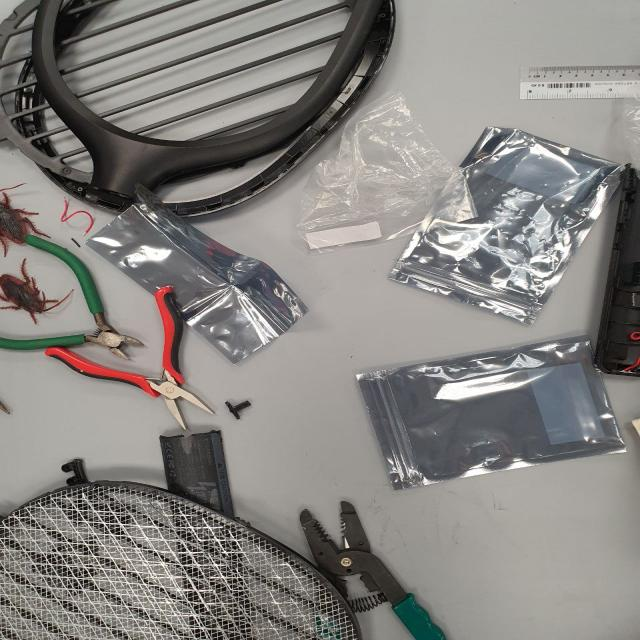Cockroach: (0, 254, 84, 326), (0, 182, 57, 259)
